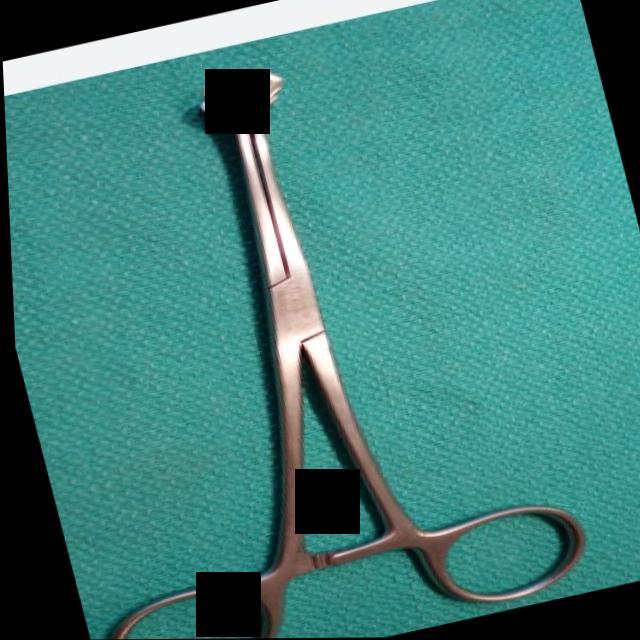Babcock Forceps: (1, 19, 610, 640)
